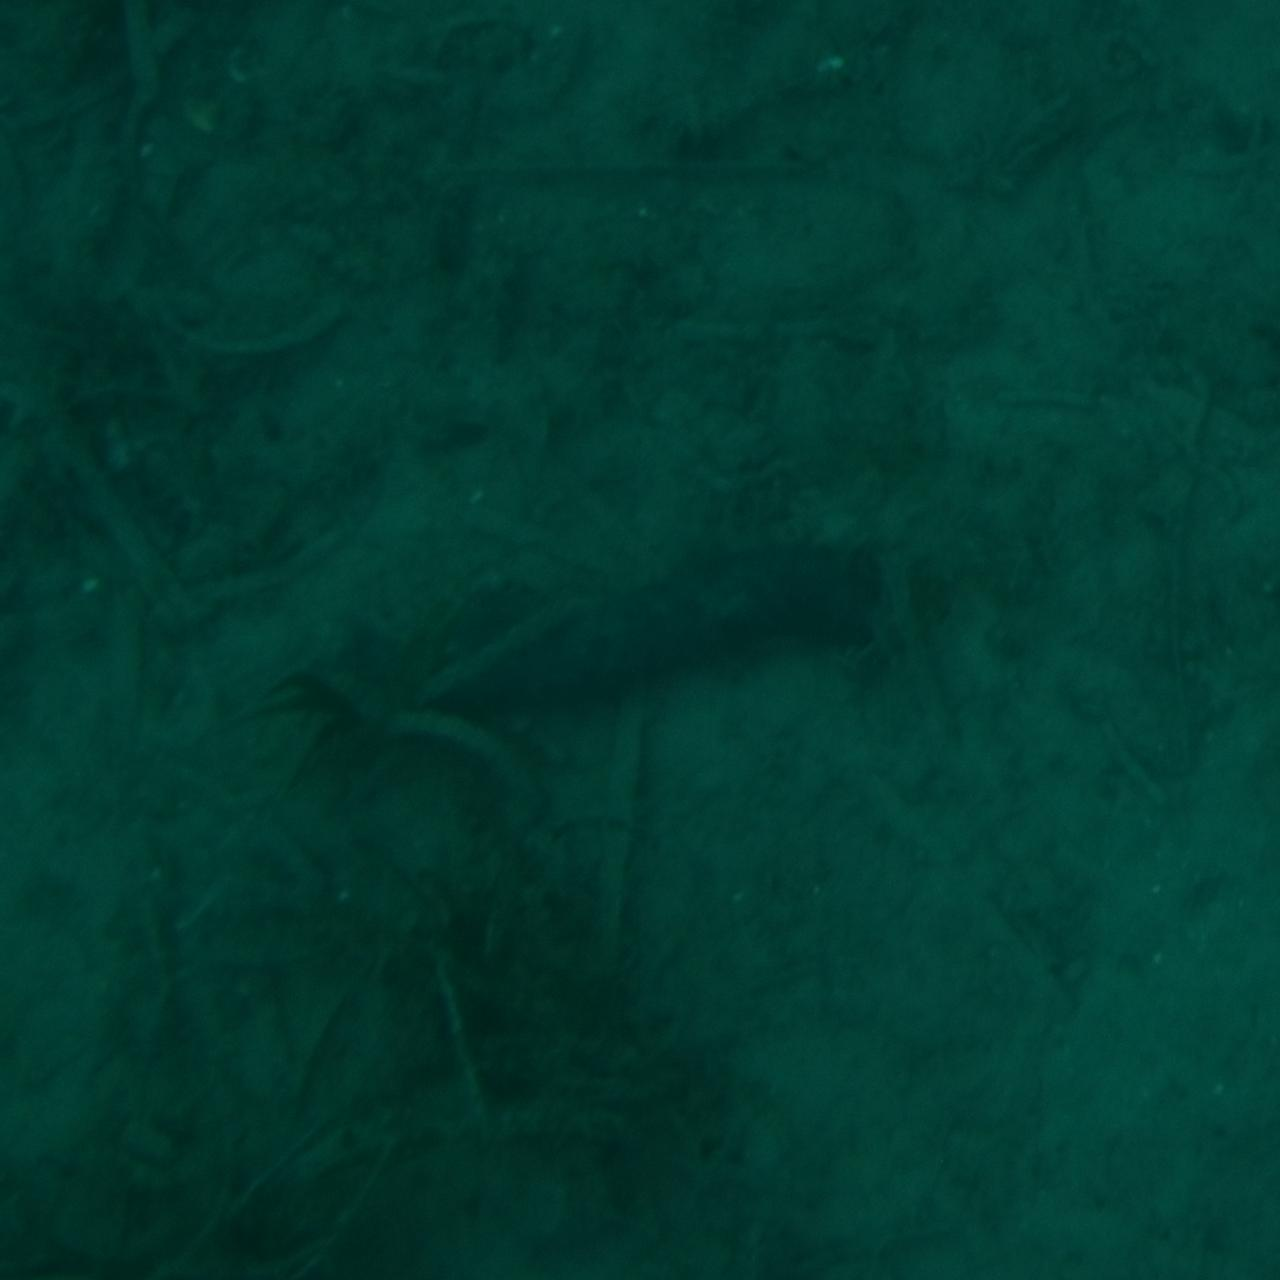Holothuria tubulosa: (394, 540, 886, 740)
